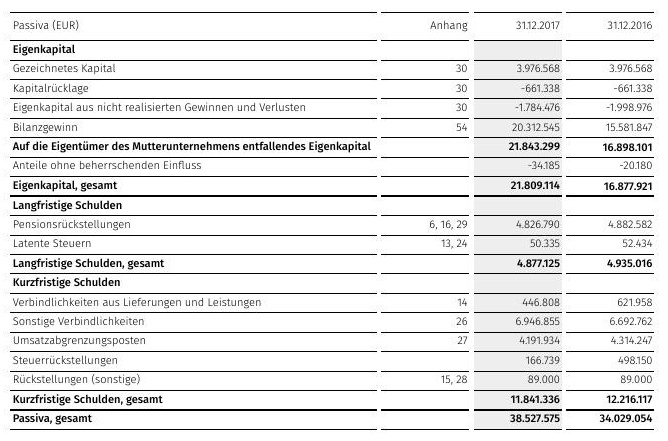table: (0, 0, 668, 441)
